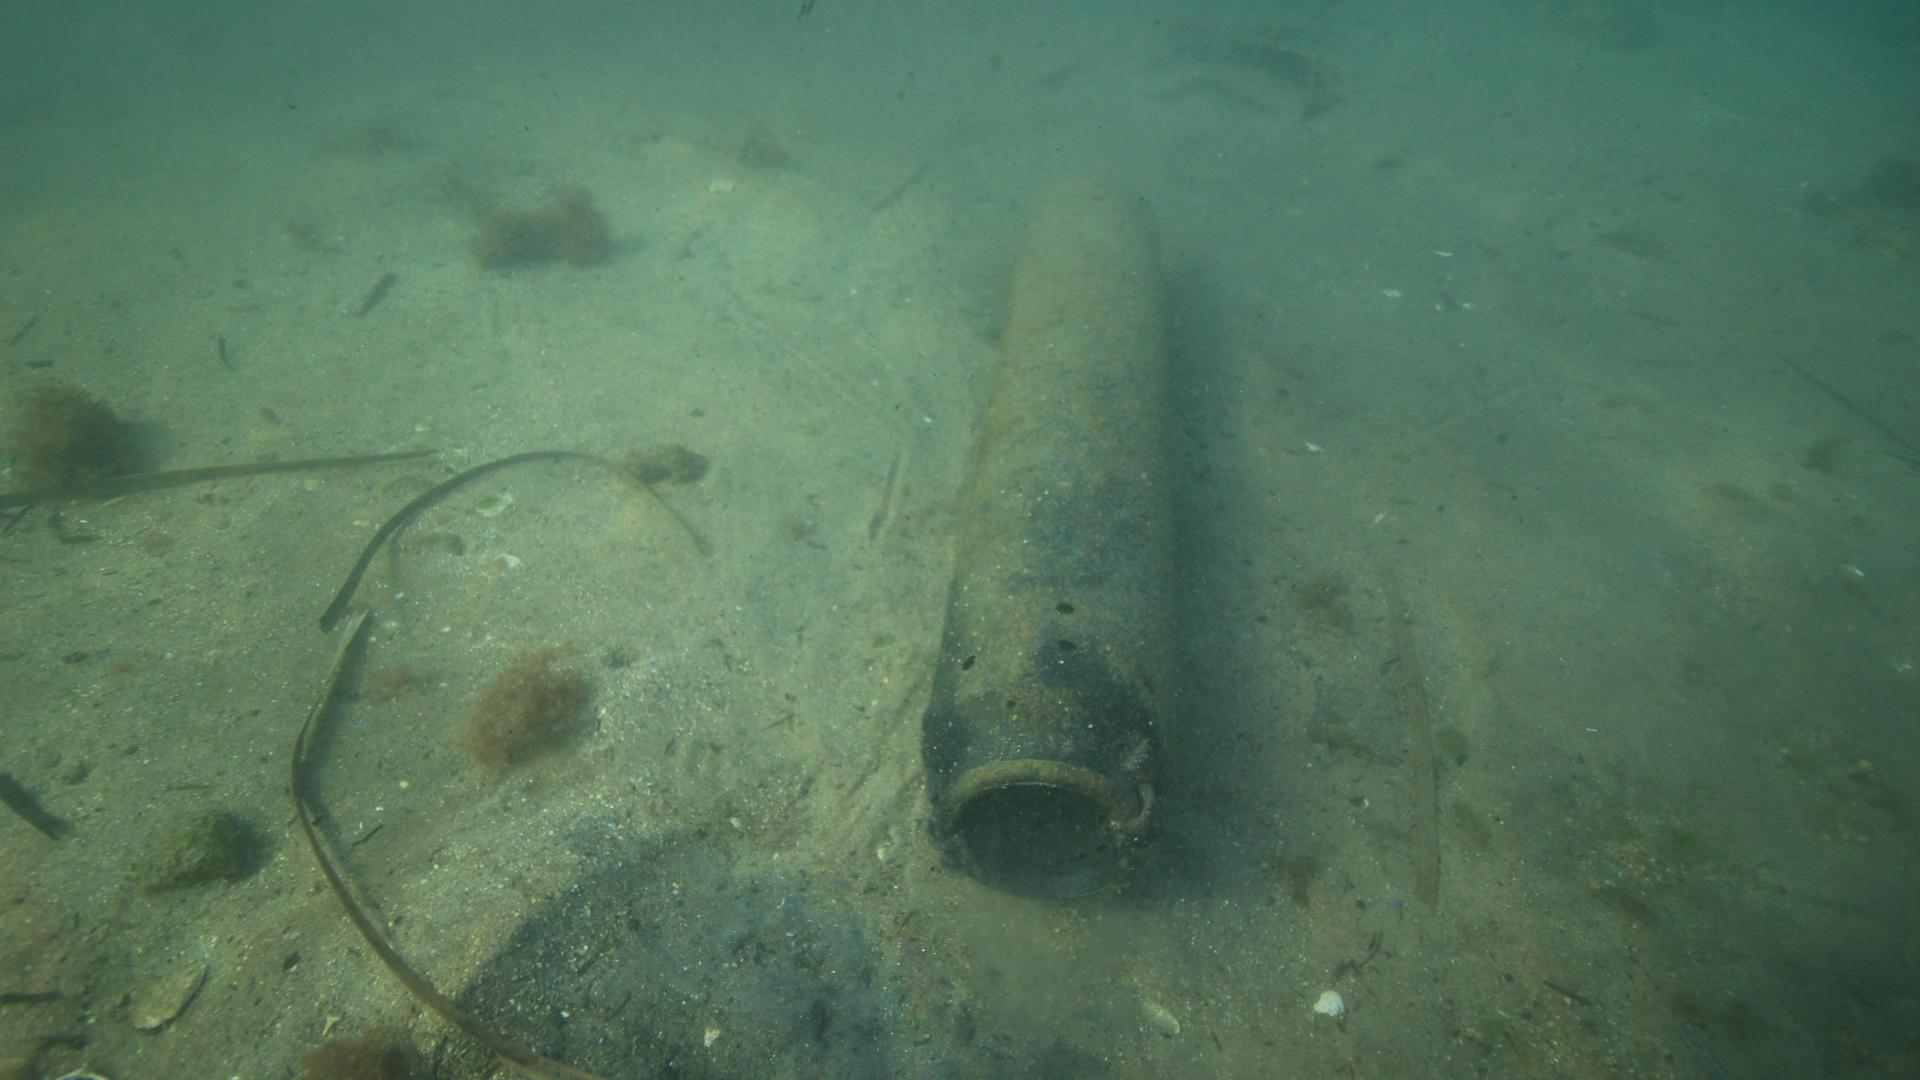eel fish trap: (923, 133, 1174, 895)
